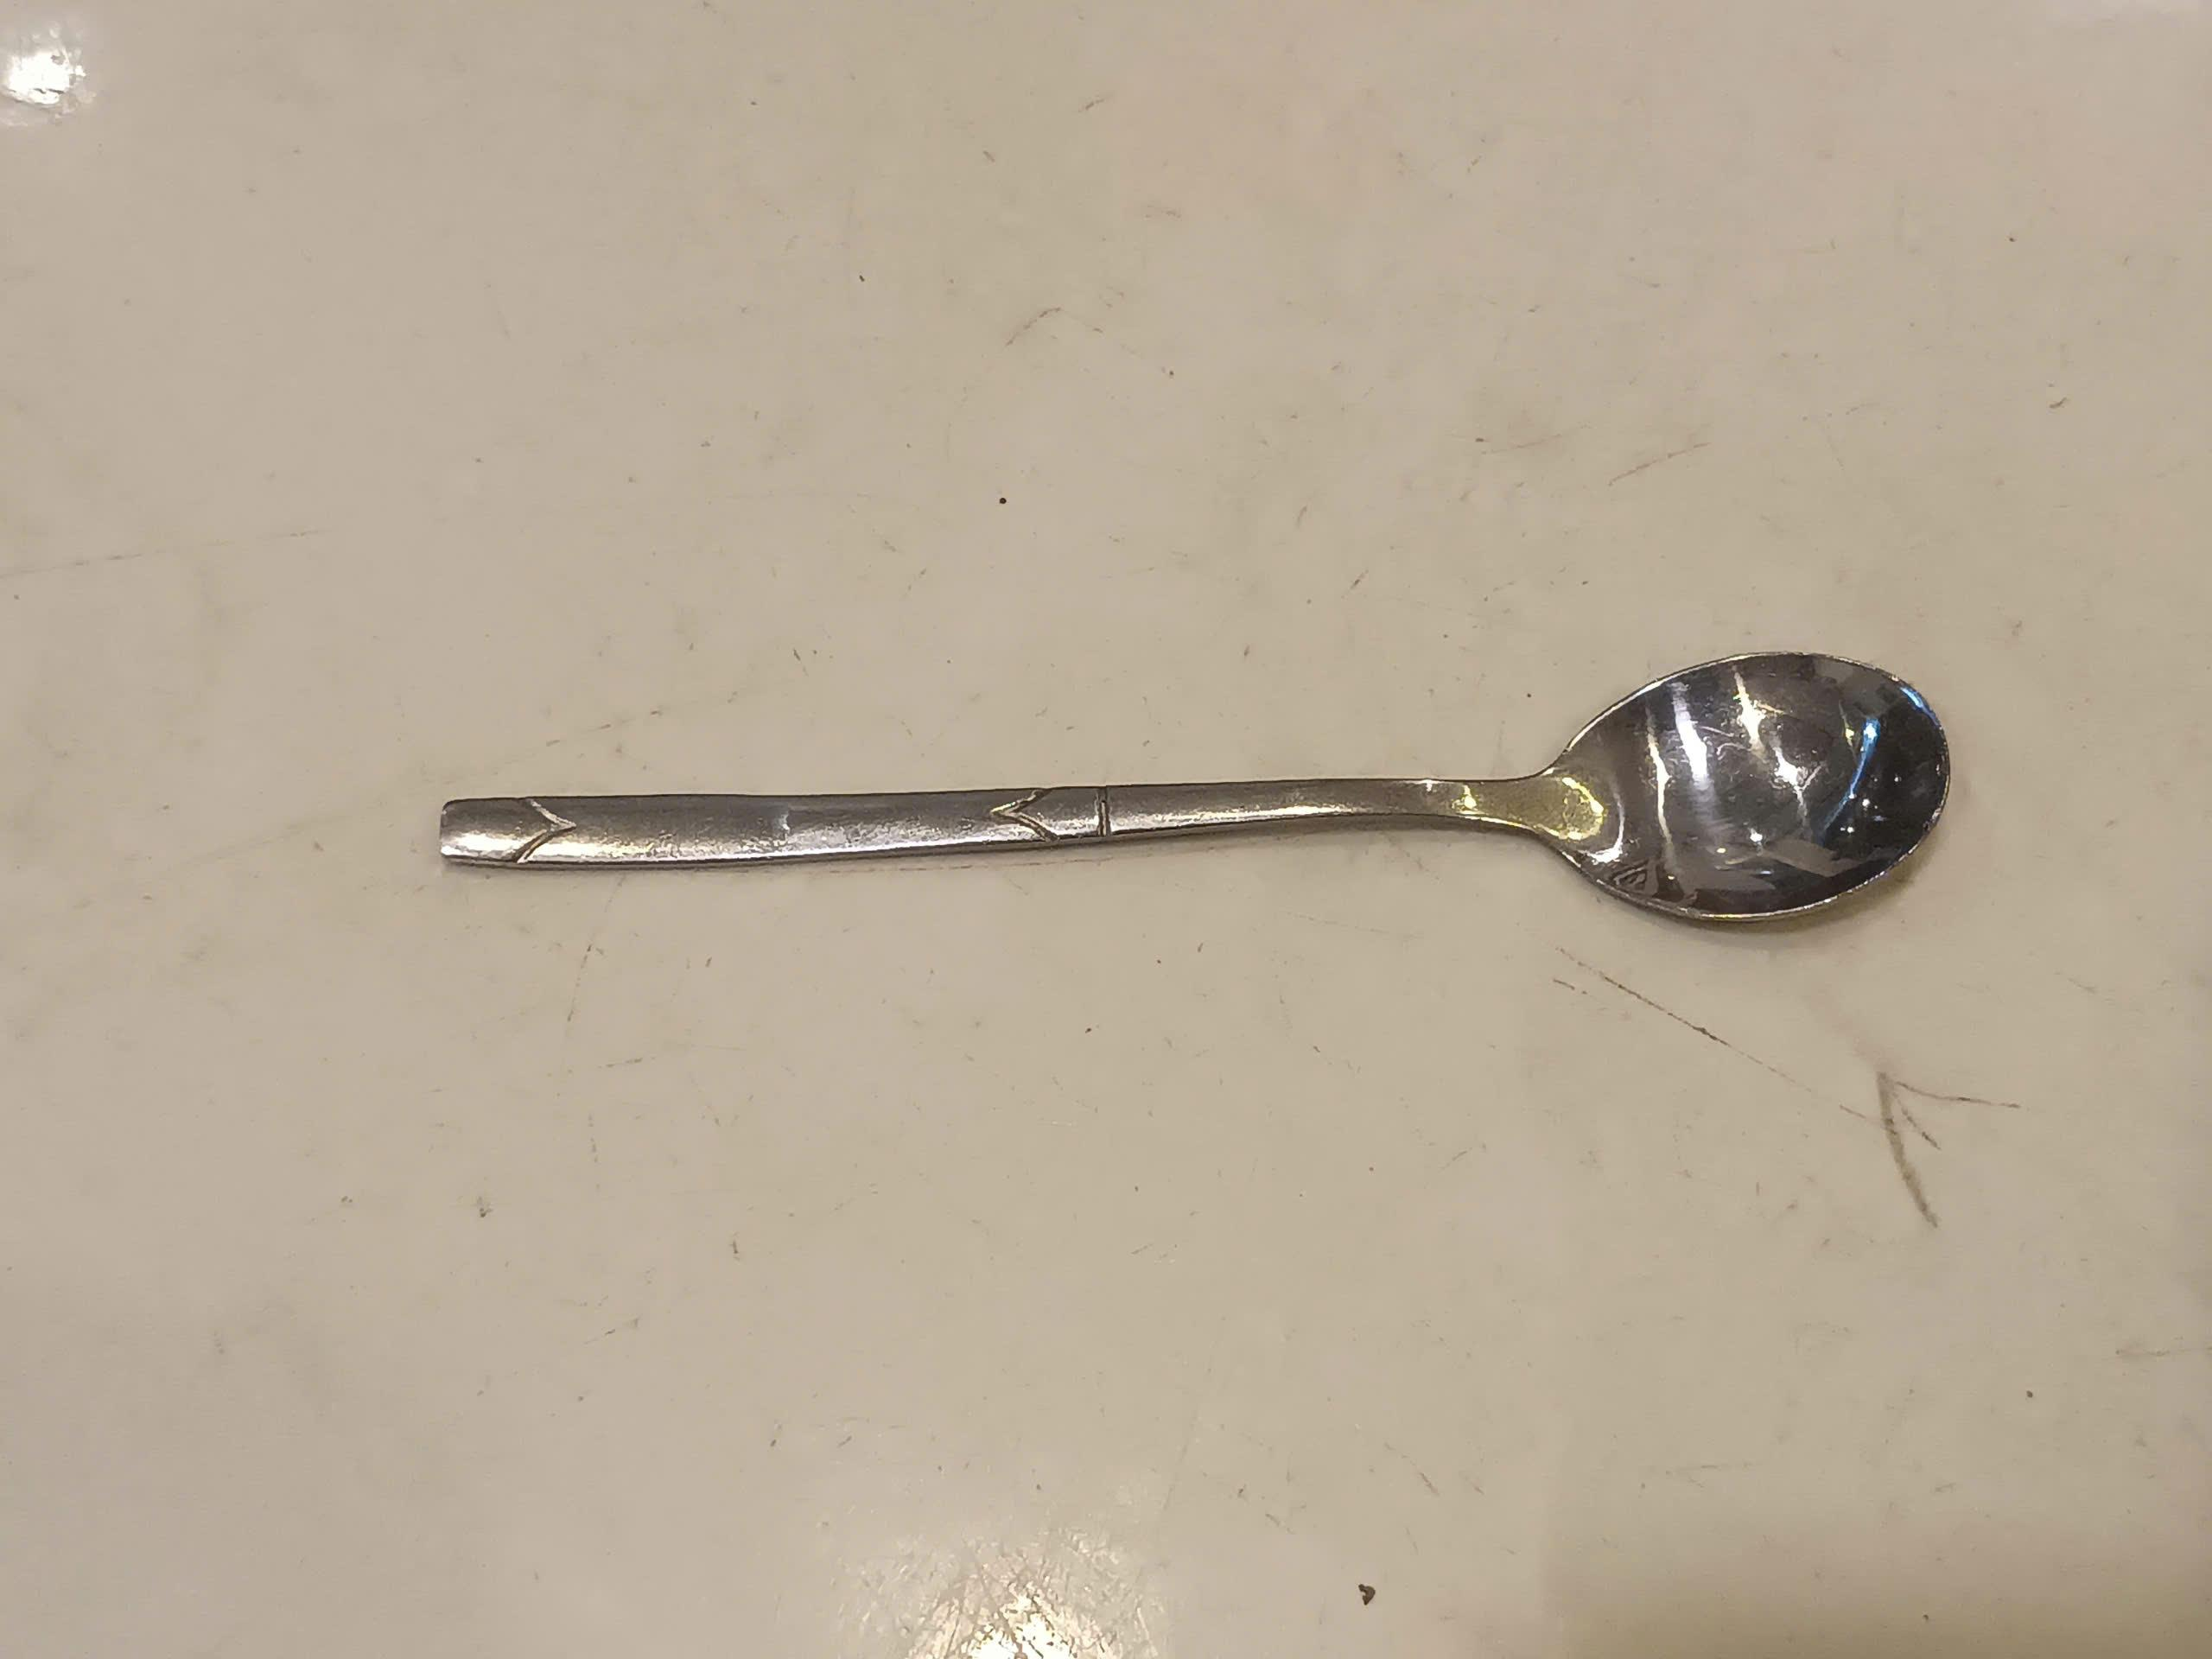Vo co: (441, 655, 1958, 925)
